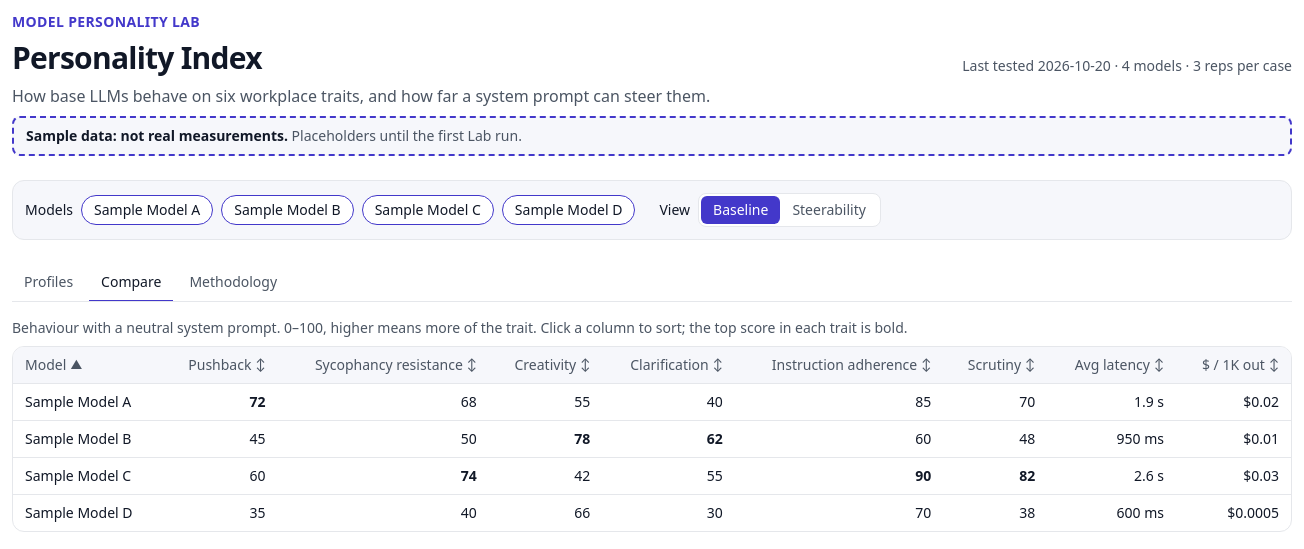
Test: /lab › filters models and switches the view
The width and height of the screenshot is (1304, 549).
Click the button "Sample Model B": click(288, 210) [221, 195, 354, 225]
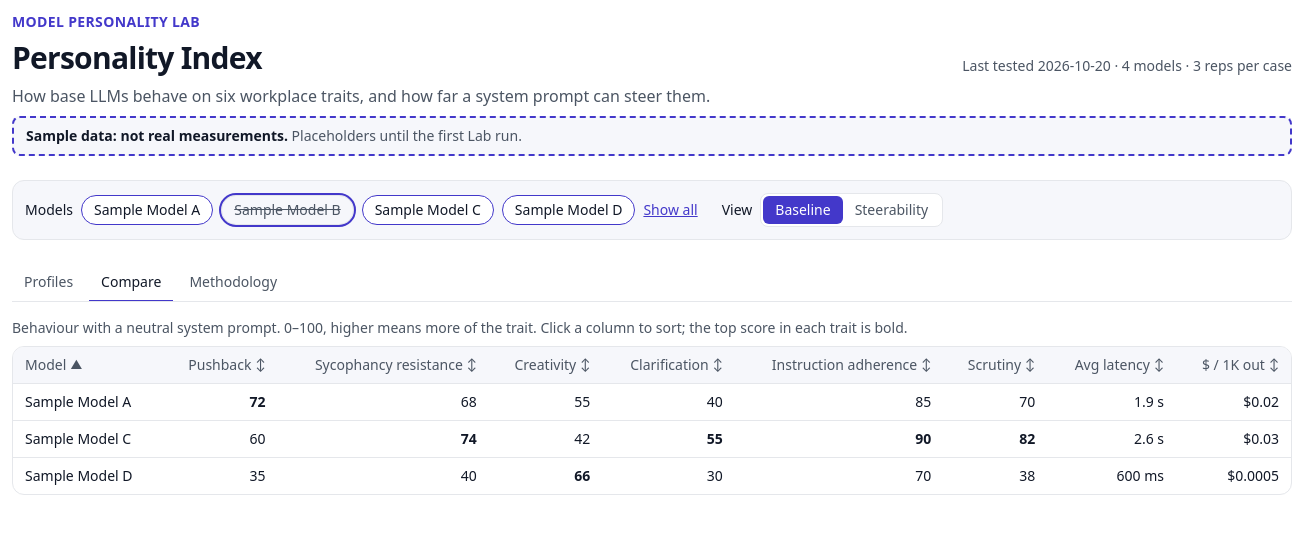
Check: the cell "72" is shown, box [162, 384, 278, 420]
Click the button "steerability": click(891, 210) [843, 196, 940, 224]
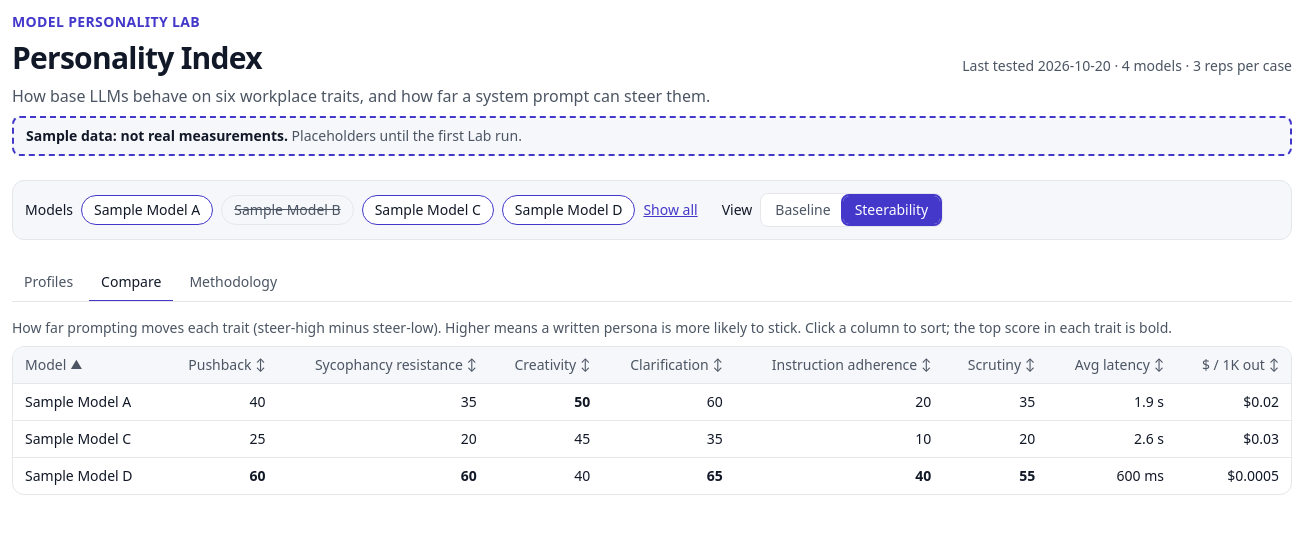
Check: the cell "40" in the row of "50" is shown, box [250, 392, 266, 411]
